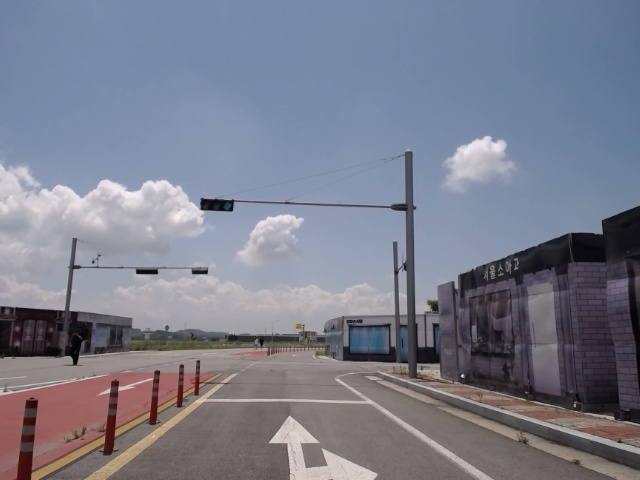green_3: (202, 200, 232, 210)
